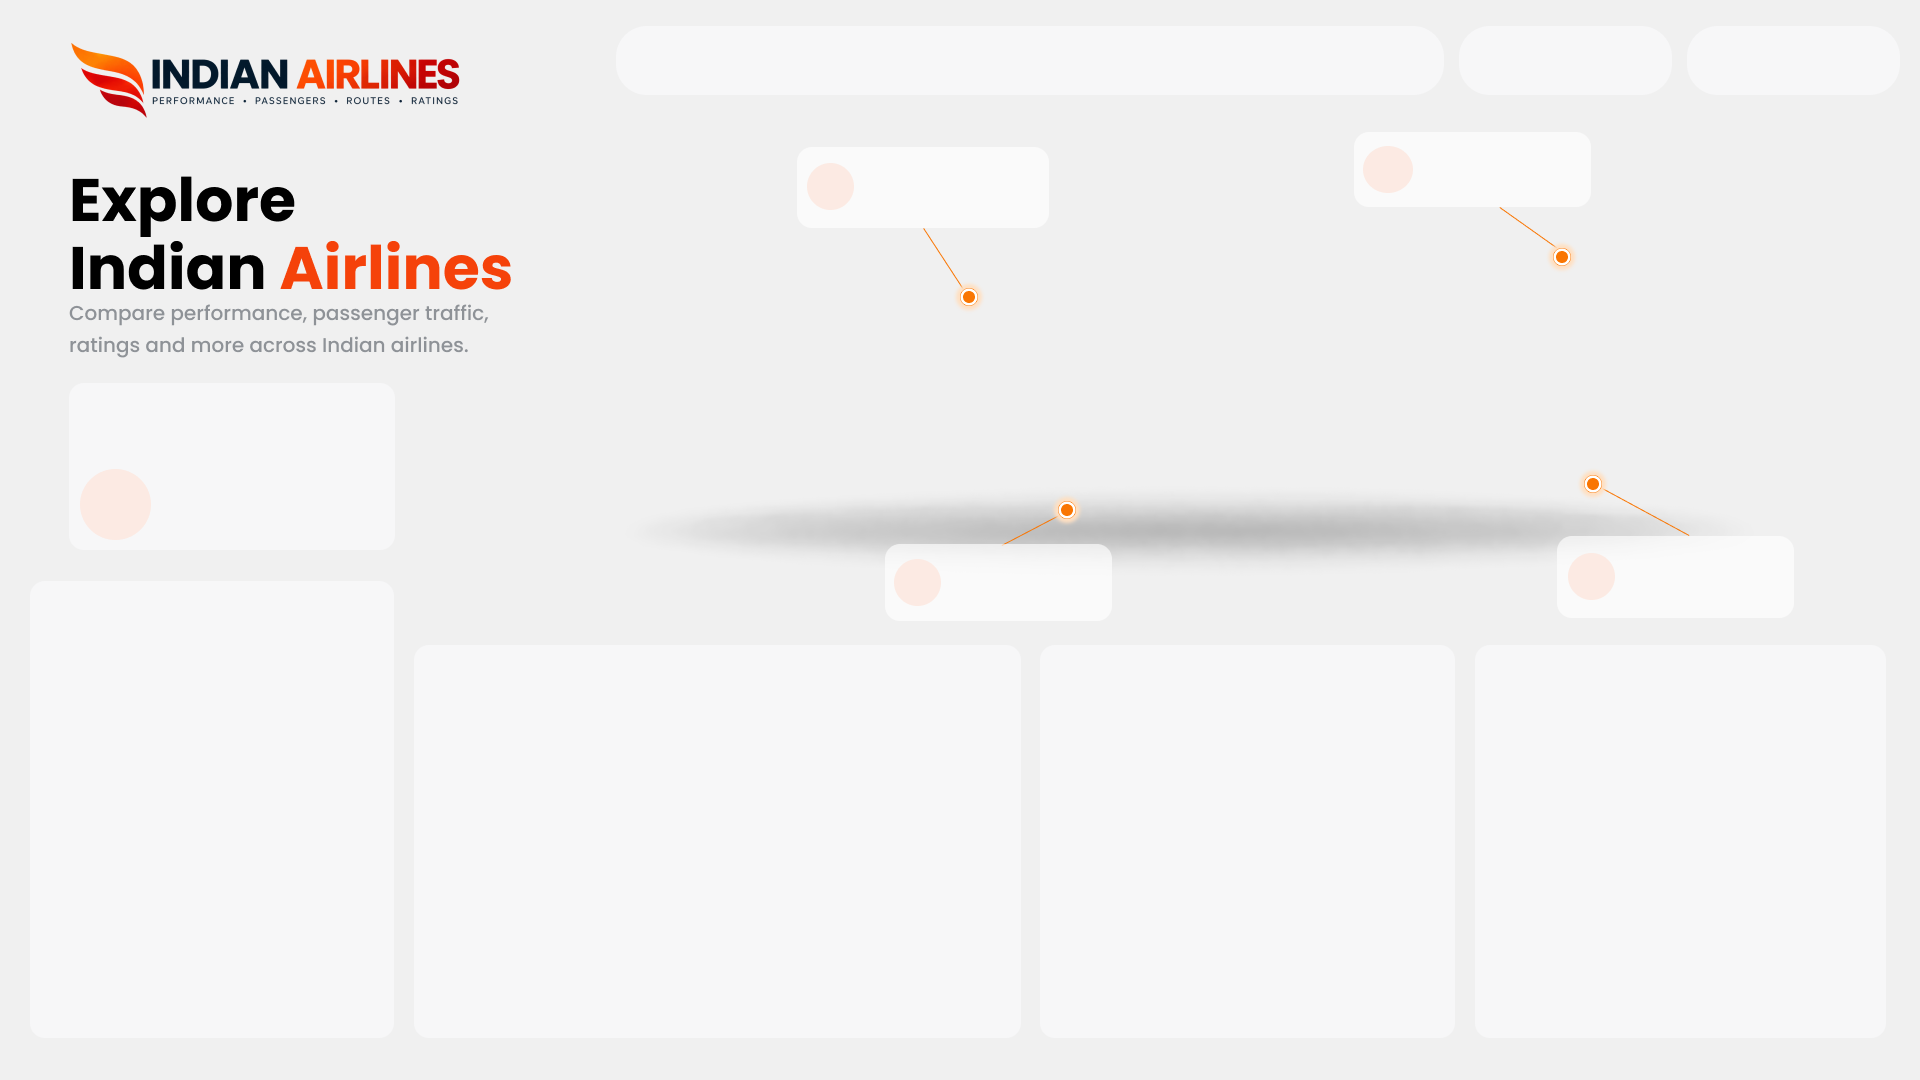

Layout of this report page (visuals, bound fields, positions):
{"tool":"powerbi","page":{"name":"Traffic Performance","canvas":[1920,1080],"ordinal":0},"visuals":[{"type":"funnel","fields":{"Category":["Flight_Data.Airline"],"Y":["Avg(Flight_Data.Customer_Rating)"]},"box":[34.4,651.5,354.7,378.2],"z":0},{"type":"clusteredColumnChart","fields":{"Category":["Flight_Data.Airline"],"Y":["Sum(Flight_Data.Passengers)"]},"box":[1042.4,716.6,407.2,313.1],"z":1000},{"type":"lineChart","fields":{"Category":["Flight_Data.Date.Variation.Date Hierarchy.Year","Flight_Data.Date.Variation.Date Hierarchy.Quarter","Flight_Data.Date.Variation.Date Hierarchy.Month"],"Y":["Sum(Flight_Data.Passengers)"]},"box":[419.1,716.3,596.1,312.2],"z":2000},{"type":"donutChart","fields":{"Category":["Flight_Data.Airline"],"Y":["Sum(Flight_Data.Estimated_Profit_INR)"]},"box":[1480.3,716.6,401.7,313.1],"z":3000},{"type":"advancedSlicerVisual","fields":{"Values":["Aircraft_Images.Airline"]},"box":[636.3,21.6,785.6,69.3],"z":4000},{"type":"image","box":[651.4,144.8,1268.6,412.6],"z":5000},{"type":"cardVisual","fields":{"Data":["Min(Aircraft_Images.Airline)"]},"box":[73.6,389.5,313.8,62.8],"z":6000},{"type":"cardVisual","fields":{"Data":["MeasuresTable.Total Passenger"]},"box":[153.7,471.8,233.7,71.4],"z":7000},{"type":"cardVisual","fields":{"Data":["MeasuresTable.Seat Capacity"]},"box":[863.5,149.3,179.6,73.6],"z":8000},{"type":"cardVisual","fields":{"Data":["MeasuresTable.CO2 Per Passenger"]},"box":[1421.8,134.2,164.5,73.6],"z":9000},{"type":"cardVisual","fields":{"Data":["MeasuresTable.Avg Flight Duration"]},"box":[1618.8,543.2,179.6,73.6],"z":10000},{"type":"cardVisual","fields":{"Data":["MeasuresTable.Fuel Efficiency"]},"box":[945.7,543.2,168.8,75.7],"z":11000},{"type":"slicer","fields":{"Values":["Flight_Data.Route"]},"box":[1504.7,44.9,163.6,37.8],"z":12000},{"type":"slicer","fields":{"Values":["Flight_Data.Destination_City"]},"box":[1733.2,45.1,165.3,38.4],"z":13000}]}

Visuals, with their boxes in screenshot pixels (x1, y1, x2, y2), scaled from the page's 1920x1080 canvas onto the 1920x1080 screenshot:
funnel - Flight_Data.Airline x Avg(Flight_Data.Customer_Rating): {"x1": 34, "y1": 652, "x2": 389, "y2": 1030}
clusteredColumnChart - Flight_Data.Airline x Sum(Flight_Data.Passengers): {"x1": 1042, "y1": 717, "x2": 1450, "y2": 1030}
lineChart - Flight_Data.Date.Variation.Date Hierarchy.Year x Flight_Data.Date.Variation.Date Hierarchy.Quarter: {"x1": 419, "y1": 716, "x2": 1015, "y2": 1028}
donutChart - Flight_Data.Airline x Sum(Flight_Data.Estimated_Profit_INR): {"x1": 1480, "y1": 717, "x2": 1882, "y2": 1030}
advancedSlicerVisual - Aircraft_Images.Airline: {"x1": 636, "y1": 22, "x2": 1422, "y2": 91}
image: {"x1": 651, "y1": 145, "x2": 1919, "y2": 557}
cardVisual - Min(Aircraft_Images.Airline): {"x1": 74, "y1": 390, "x2": 387, "y2": 452}
cardVisual - MeasuresTable.Total Passenger: {"x1": 154, "y1": 472, "x2": 387, "y2": 543}
cardVisual - MeasuresTable.Seat Capacity: {"x1": 864, "y1": 149, "x2": 1043, "y2": 223}
cardVisual - MeasuresTable.CO2 Per Passenger: {"x1": 1422, "y1": 134, "x2": 1586, "y2": 208}
cardVisual - MeasuresTable.Avg Flight Duration: {"x1": 1619, "y1": 543, "x2": 1798, "y2": 617}
cardVisual - MeasuresTable.Fuel Efficiency: {"x1": 946, "y1": 543, "x2": 1114, "y2": 619}
slicer - Flight_Data.Route: {"x1": 1505, "y1": 45, "x2": 1668, "y2": 83}
slicer - Flight_Data.Destination_City: {"x1": 1733, "y1": 45, "x2": 1898, "y2": 84}
